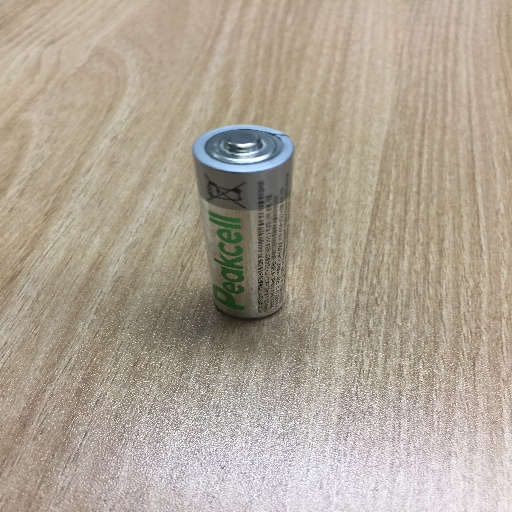Battery_0: (188, 113, 309, 327)
